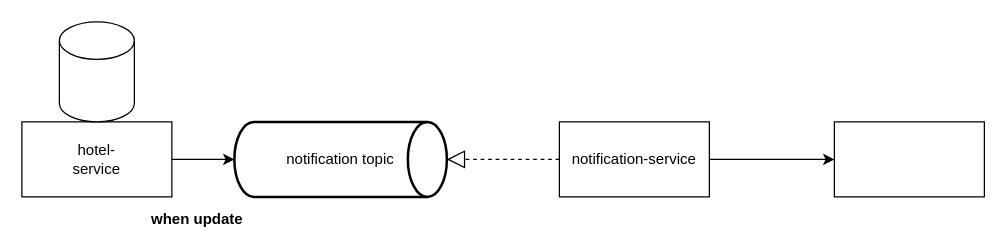
The diagram is 1006 pixels wide and 251 high, and some of its shapes have lost their labels. Each missing label, with the box of its shape:
external api: (833, 121, 984, 197)
postgres: (58, 21, 134, 122)
